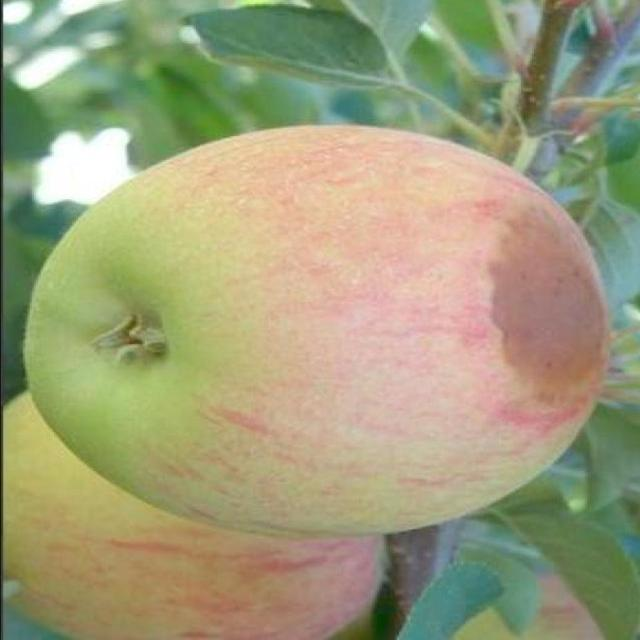Sunscald Fruit: (294, 129, 416, 283)
